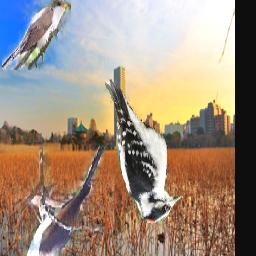Cuckoo: (10, 143, 105, 256), (1, 0, 70, 70)
Woodpecker: (104, 79, 187, 224)
